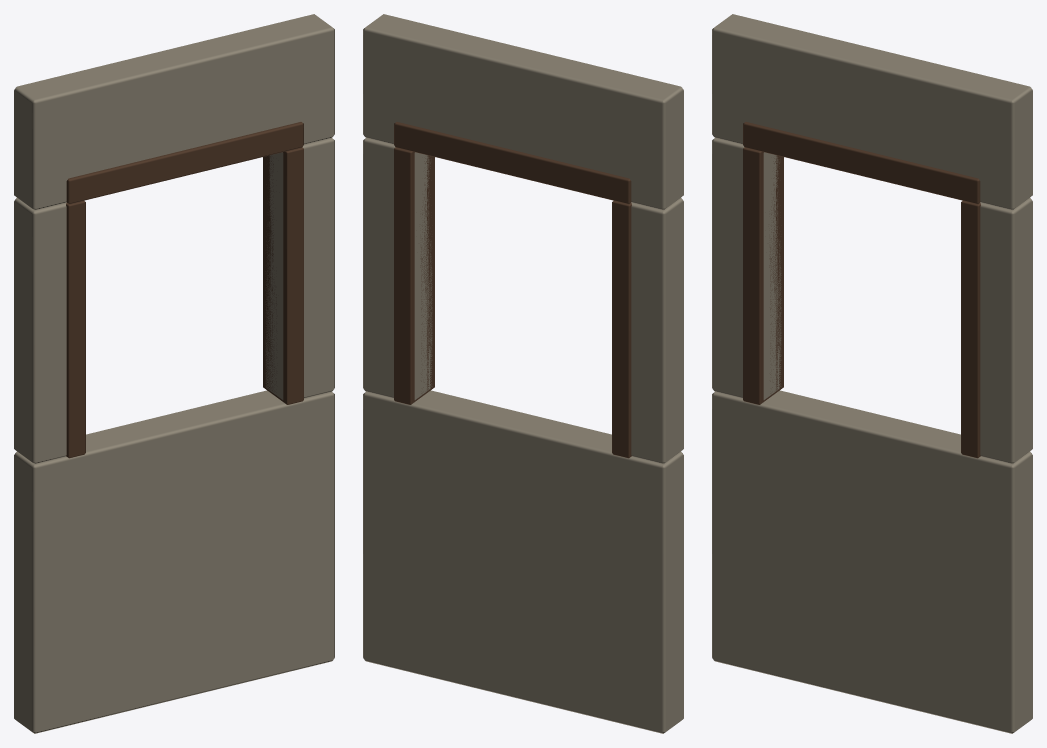
Rendered from village-window-frame.fd7fe9ad.glb.
3 views of the same model, side by side, from view 1: azimuth 30°, elevation 25°; view 2: azimuth 150°, elevation 25°; view 3: azimuth 330°, elevation 25° (orthographic).
Parts seen in each view (by area): view 1: body; view 2: body; view 3: body.
Part boxes in pixels (x1=…): body: x1=14, y1=14, x2=334, y2=733; body: x1=363, y1=14, x2=683, y2=733; body: x1=712, y1=14, x2=1032, y2=733.
Size of the model in its own units: 1 by 2 by 0.14.
